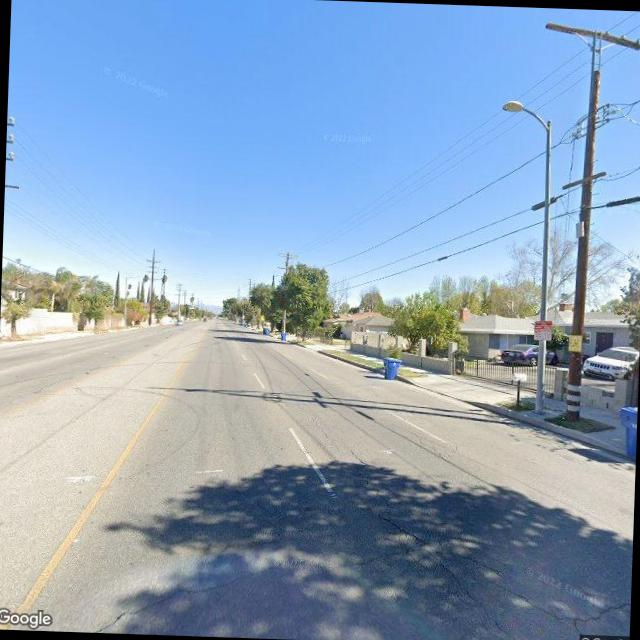crack: (283, 394, 581, 637), (83, 536, 405, 640)
